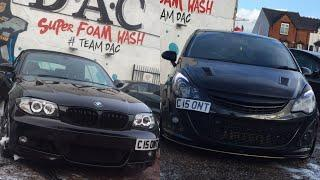bienso: (175, 94, 214, 116), (133, 135, 162, 153)
